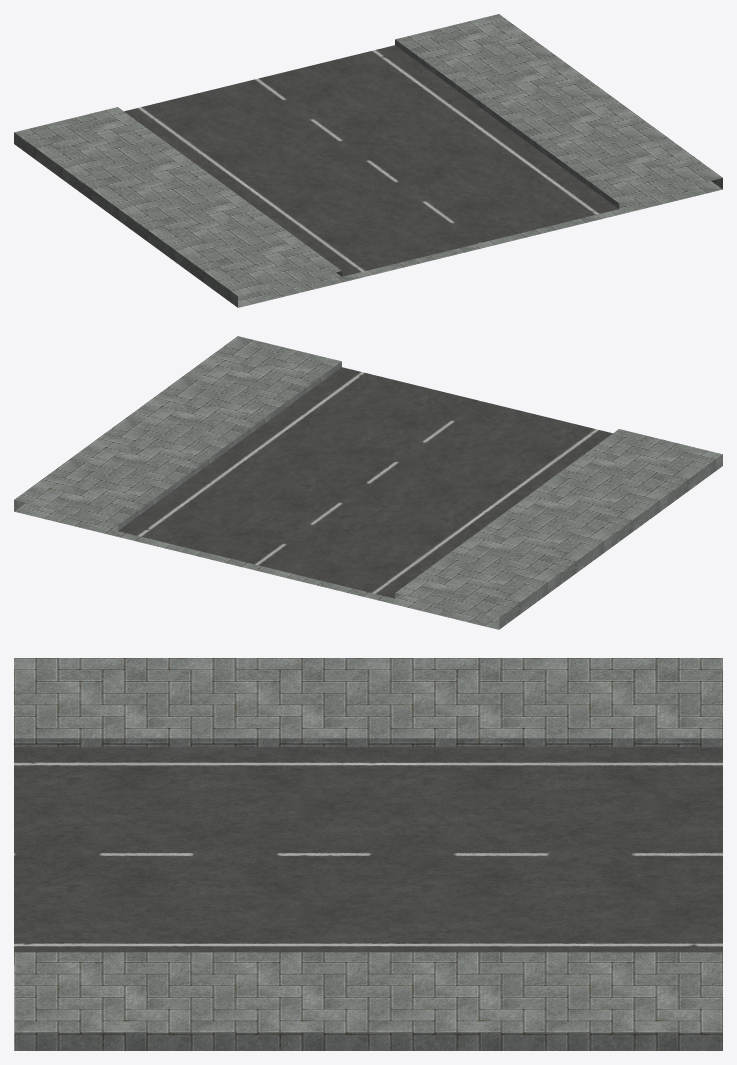
The model's file is Straight 2 Lane.fbx.
3 views of the same model, one above another, from view 1: azimuth 30°, elevation 25°; view 2: azimuth 150°, elevation 25°; view 3: azimuth 270°, elevation 25° (orthographic). The views are drawn at different scales.
Visible parts, largest first — view 1: Plane.001; view 2: Plane.001; view 3: Plane.001.
Part boxes in pixels (box(x1,y1,x2,y2)): Plane.001: box(14, 14, 722, 307); Plane.001: box(14, 336, 722, 629); Plane.001: box(14, 658, 722, 1050).
Bounding box in the file's own units: 1750 × 40 × 1400.
